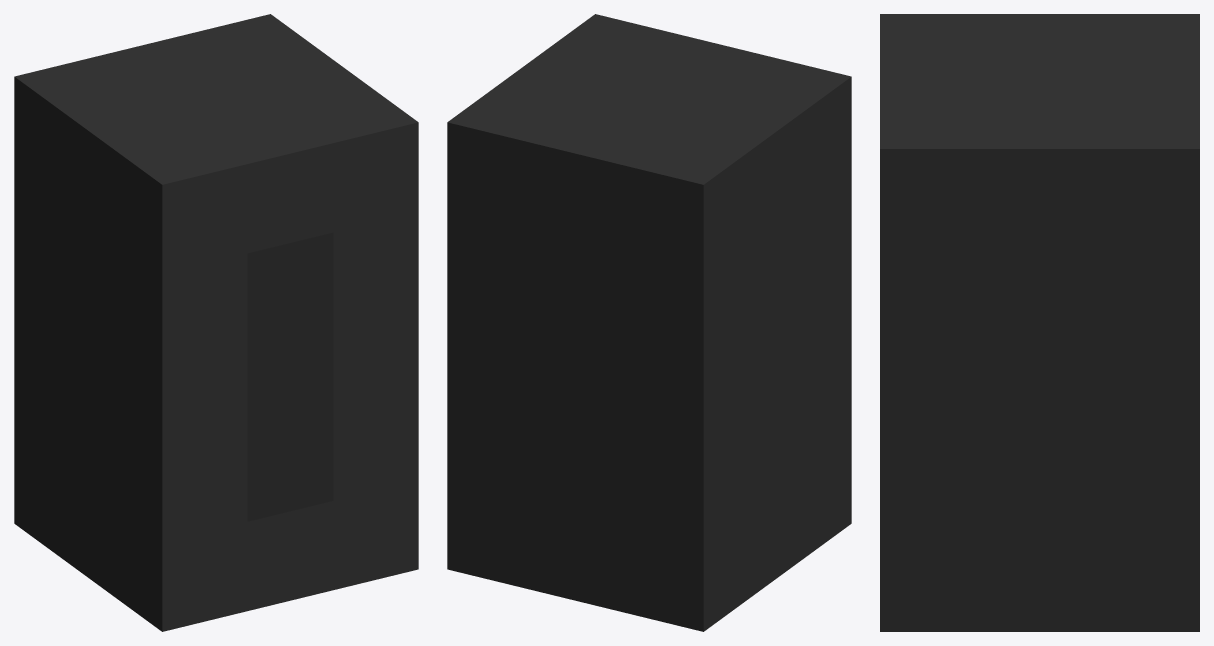
The model's file is Decor-10.obj.
3 views of the same model, side by side, from view 1: azimuth 30°, elevation 25°; view 2: azimuth 150°, elevation 25°; view 3: azimuth 270°, elevation 25° (orthographic). The views are drawn at different scales.
Bounding box in the file's own units: 0.3 × 0.5 × 0.3.
Materials: 1 (1 with a texture image).
